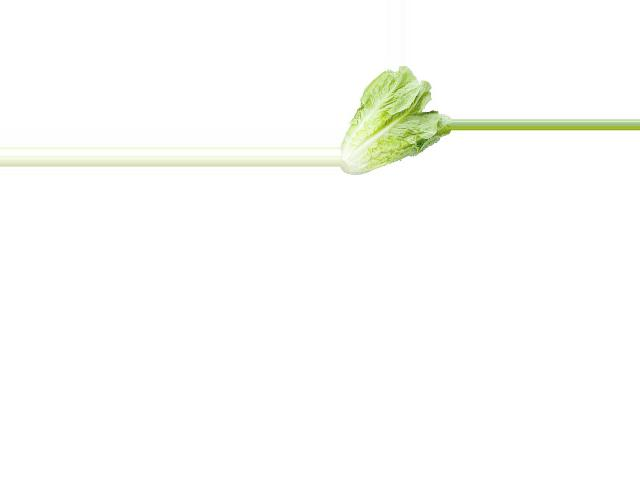lettuce: (341, 64, 448, 175)
